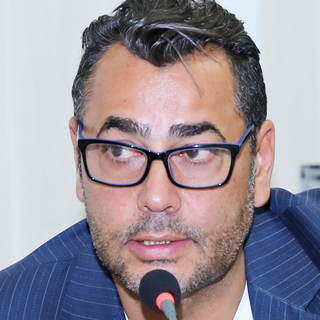eye: (167, 140, 225, 172), (93, 134, 145, 169)
